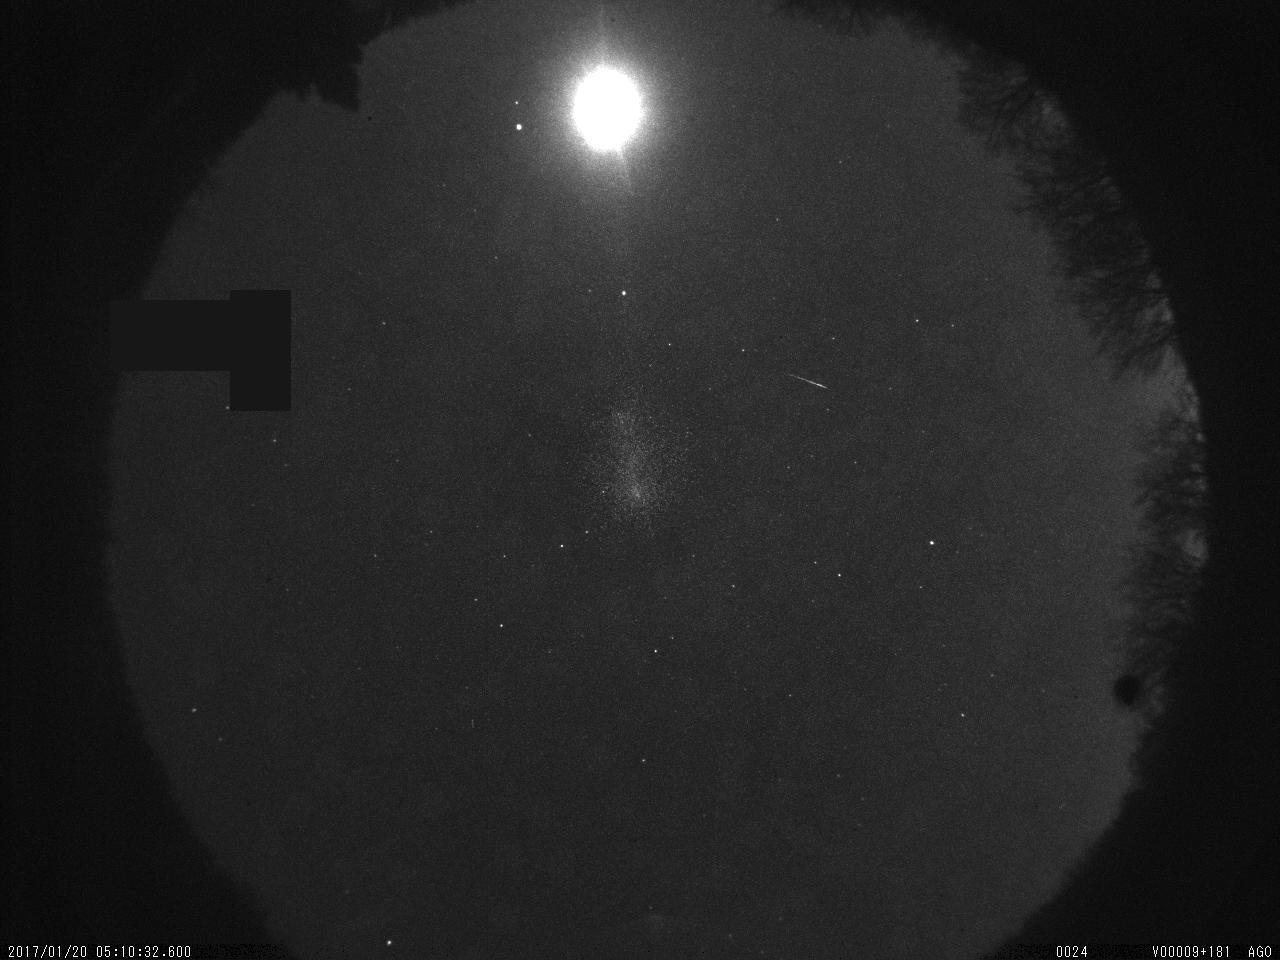meteor: (759, 342, 861, 430)
